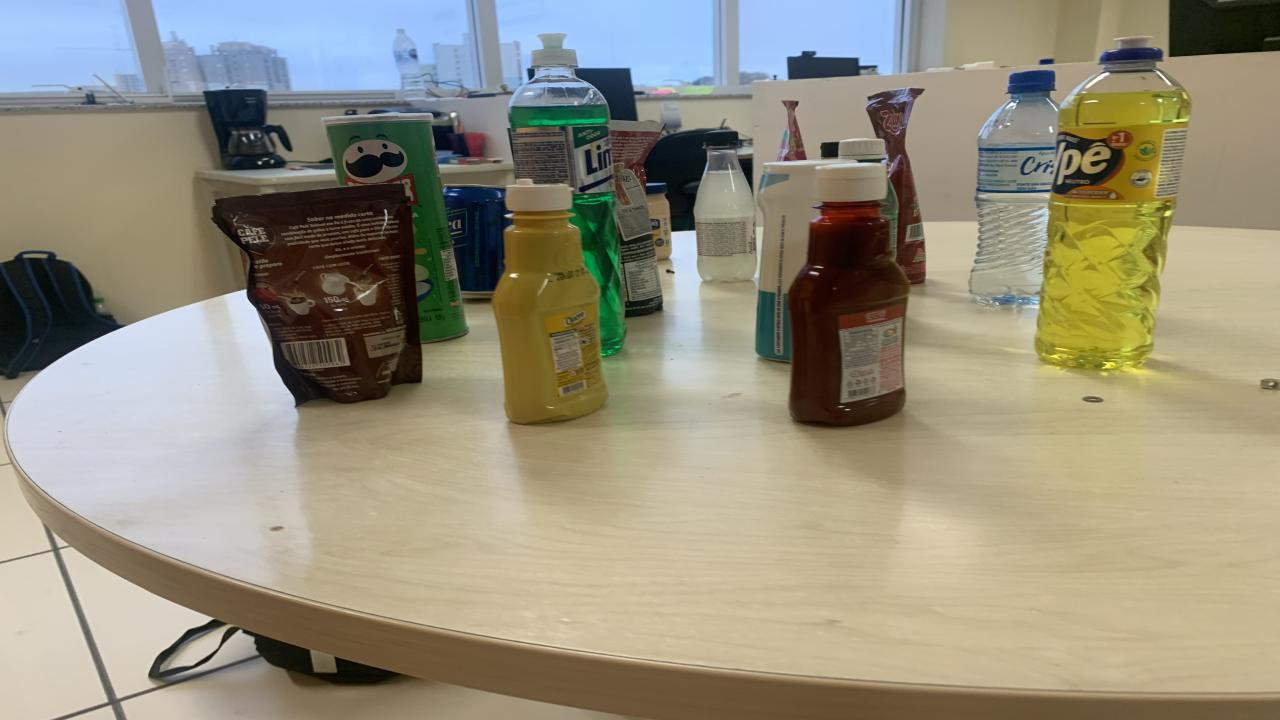Cleaner-Cleanup_Items: (755, 158, 845, 362)
Coffee-Pantry_Items: (212, 184, 422, 403)
Detergent-Cleanup_Items: (1035, 38, 1190, 369), (508, 34, 625, 354)
Guarana-Drinks: (880, 180, 900, 251), (838, 139, 888, 163)
Ketchup-Pantry_Items: (790, 163, 910, 426), (610, 120, 662, 317)
Mayonnaise-Pantry_Items: (645, 182, 672, 261)
Mustard-Pantry_Items: (492, 178, 608, 424)
Pringles-Snacks: (325, 112, 468, 341)
Soda-Drinks: (692, 129, 758, 281)
Tomato_Sauce-Pantry_Items: (868, 88, 925, 283), (778, 99, 808, 161)
Tonic-Drinks: (442, 186, 510, 298)
Water_Bottle-Drinks: (970, 69, 1058, 306)
